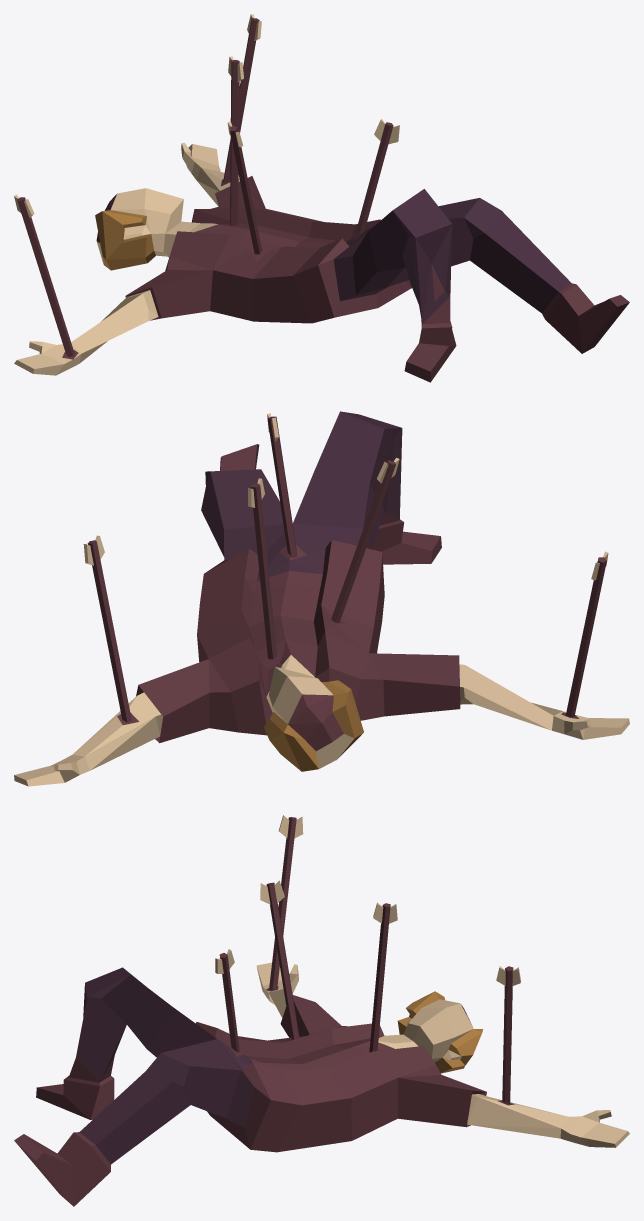
Rendered from man-pedestrian_dead-b.fbx.
3 views of the same model, one above another, from view 1: azimuth 30°, elevation 25°; view 2: azimuth 150°, elevation 25°; view 3: azimuth 270°, elevation 25° (orthographic). The views are drawn at different scales.
Visible parts, largest first — view 1: man-pedestrian_dead-b; view 2: man-pedestrian_dead-b; view 3: man-pedestrian_dead-b.
Boxes of the visible parts, x1,y1,x2,y2 form: man-pedestrian_dead-b: (14,14,629,382); man-pedestrian_dead-b: (14,411,629,786); man-pedestrian_dead-b: (14,815,629,1206).
Bounding box in the file's own units: 1.6 × 0.684 × 1.81.
